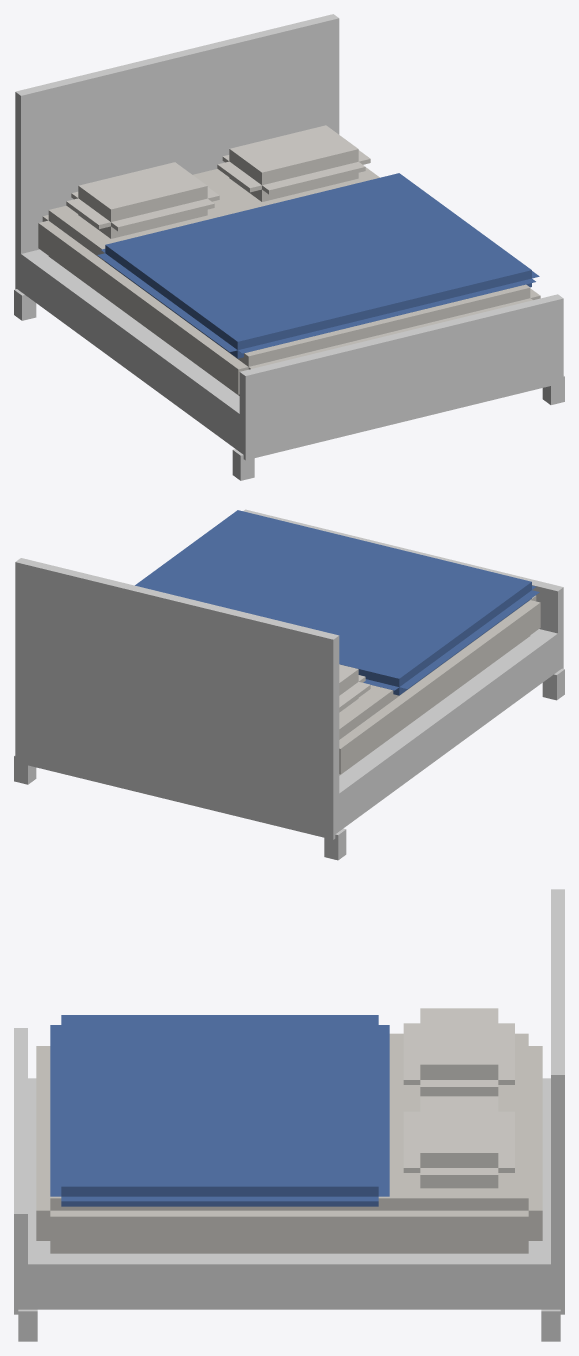
The model's file is bed-double.glb.
3 renders of one model, top to bottom at view 1: azimuth 30°, elevation 25°; view 2: azimuth 150°, elevation 25°; view 3: azimuth 270°, elevation 25°, orthographic. The views are drawn at different scales.
Parts seen in each view (by area): view 1: bed-double; view 2: bed-double; view 3: bed-double.
Part boxes in pixels (bbox=[...]): bed-double: bbox=[14, 14, 564, 480]; bed-double: bbox=[14, 509, 564, 860]; bed-double: bbox=[14, 889, 564, 1341].
Bounding box in the file's own units: 1.85 × 1.21 × 2.28.
